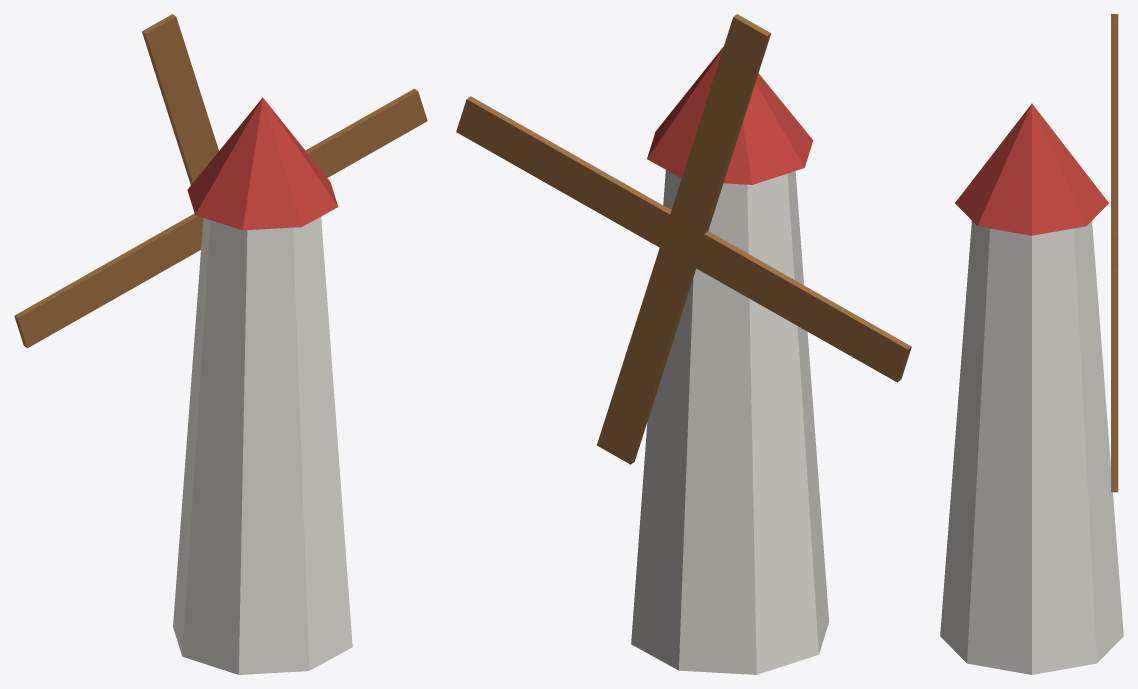
File: windmill.glb
3 renders of one model, left to right at view 1: azimuth 30°, elevation 25°; view 2: azimuth 150°, elevation 25°; view 3: azimuth 270°, elevation 25°, orthographic. The views are drawn at different scales.
Parts seen in each view (by area): view 1: windmill; view 2: windmill; view 3: windmill.
Part boxes in pixels (bbox=[...]): windmill: bbox=[14, 14, 427, 674]; windmill: bbox=[456, 14, 911, 674]; windmill: bbox=[940, 14, 1123, 674].
Size of the model in its own units: 2.54 by 3.57 by 1.
Materials: 1 (1 with a texture image).
